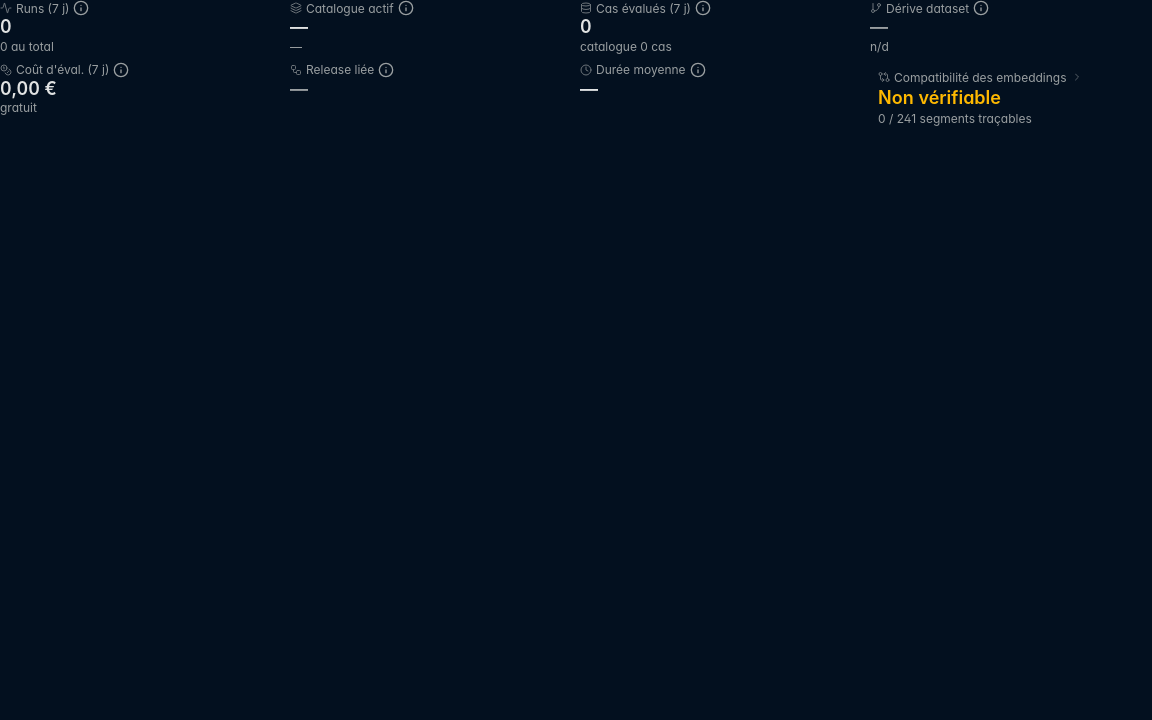
Test case: embedding compatibility KPI › names the blind spot and opens its evidence drawer
This screenshot has width=1152, height=720.
Expected: the text "Non vérifiable" is shown, [878,86,1001,109]
Expected: the text "0 / 241 segments traçables" is shown, [878,111,1032,126]
What coordinates should you click on to do the following:
click the button with aria-label "Ouvrir le détail de compatibilité des embeddings"
I would click on:
 (980, 77)
Its box is [870,62,1151,134].
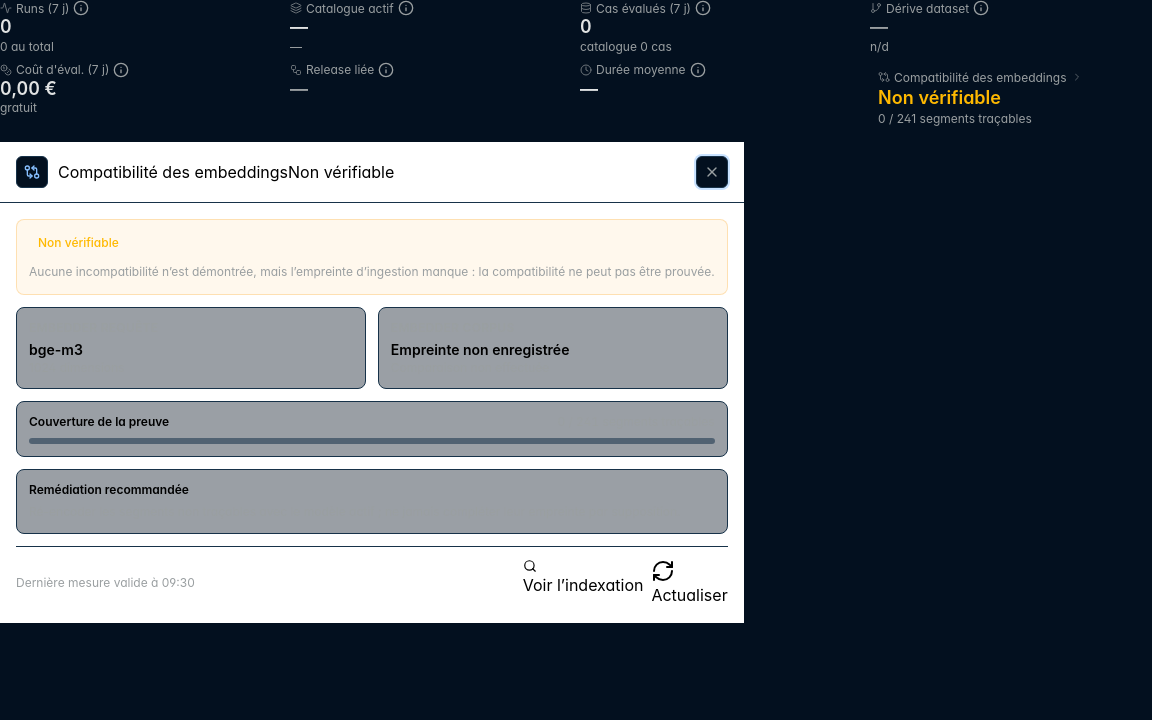
Now the element with test id "embedding-skew-detail" is shown, box [0,203,744,623]
Now the text "Empreinte non enregistrée" is shown, box [391,340,569,358]
Now the text "Couverture de la preuve" is shown, box [29,414,169,430]
